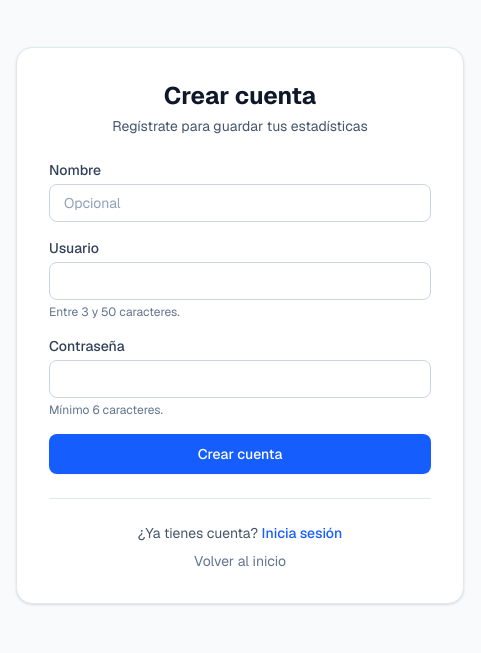
Scenario: RegisterPage (/register) › displays error alert when registration fails
Type "existinguser" into the field labelled "Usuario" at (240, 280), box [49,262,431,300]
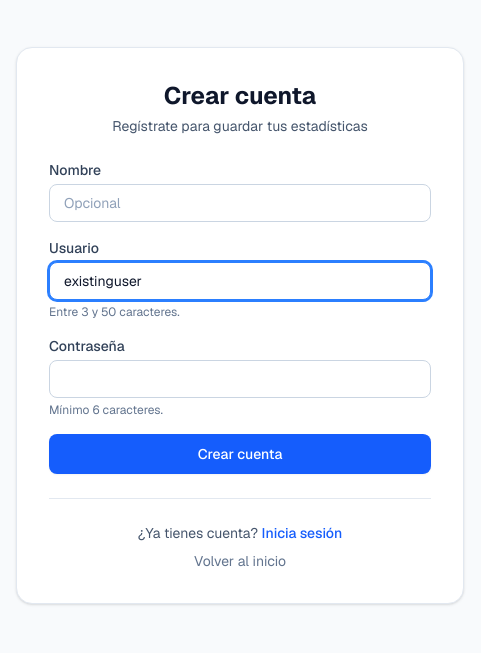
Type "password123" into the password field labelled "Contraseña" at (240, 378), box [49,360,431,398]
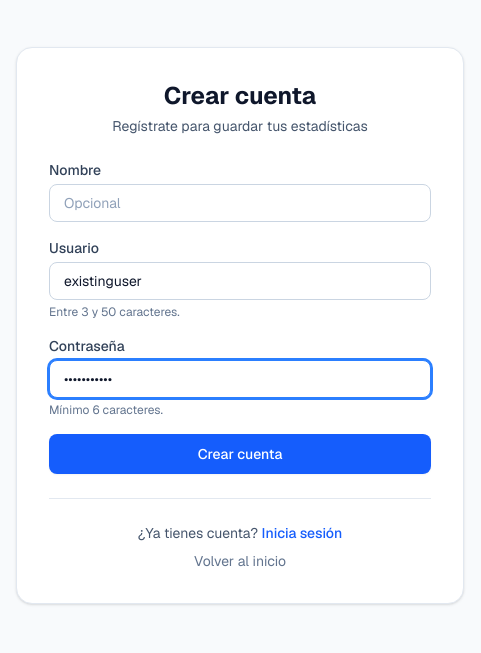
Click the button "Crear cuenta" at (240, 454), box [49,434,431,474]
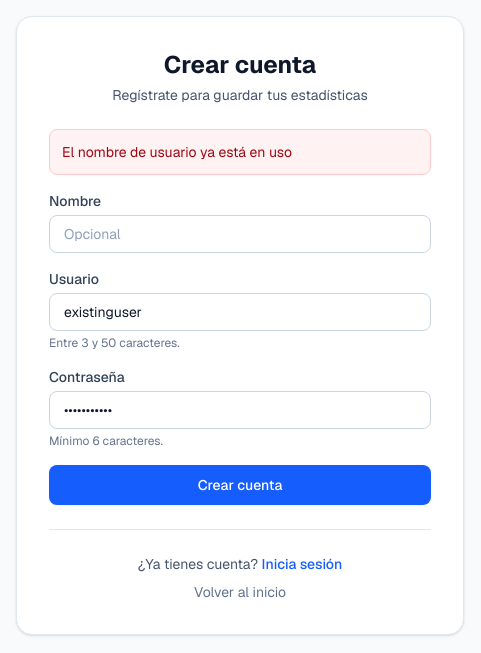
Check: the text "El nombre de usuario ya está en uso" is shown, box [49,128,431,174]
